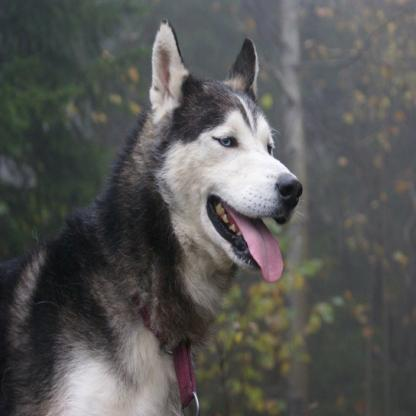husky: (0, 24, 301, 415)
